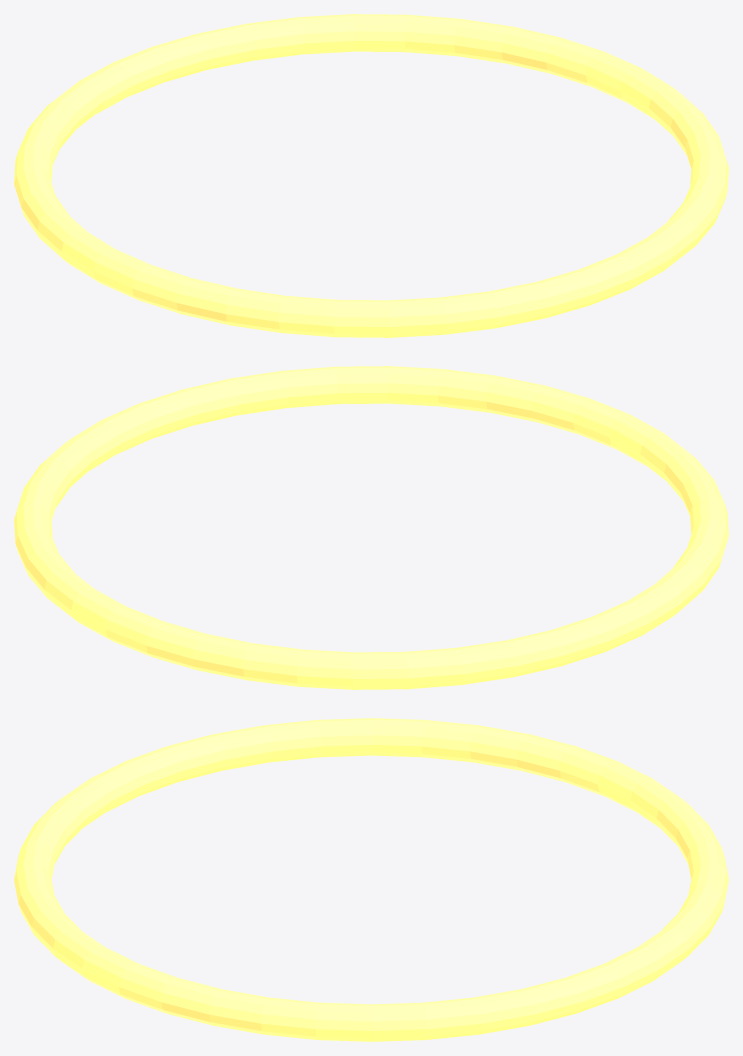
The model's file is marker.glb.
The picture shows the model from 3 angles, top to bottom: view 1: azimuth 30°, elevation 25°; view 2: azimuth 150°, elevation 25°; view 3: azimuth 270°, elevation 25°; orthographic projection.
Parts seen in each view (by area): view 1: Marker; view 2: Marker; view 3: Marker.
Part boxes in pixels (left/top/right/bottom): Marker: left=14, top=14, right=728, bottom=337; Marker: left=14, top=366, right=728, bottom=689; Marker: left=14, top=718, right=728, bottom=1041.
Bounding box in the file's own units: 1.52 × 0.08 × 1.52.
